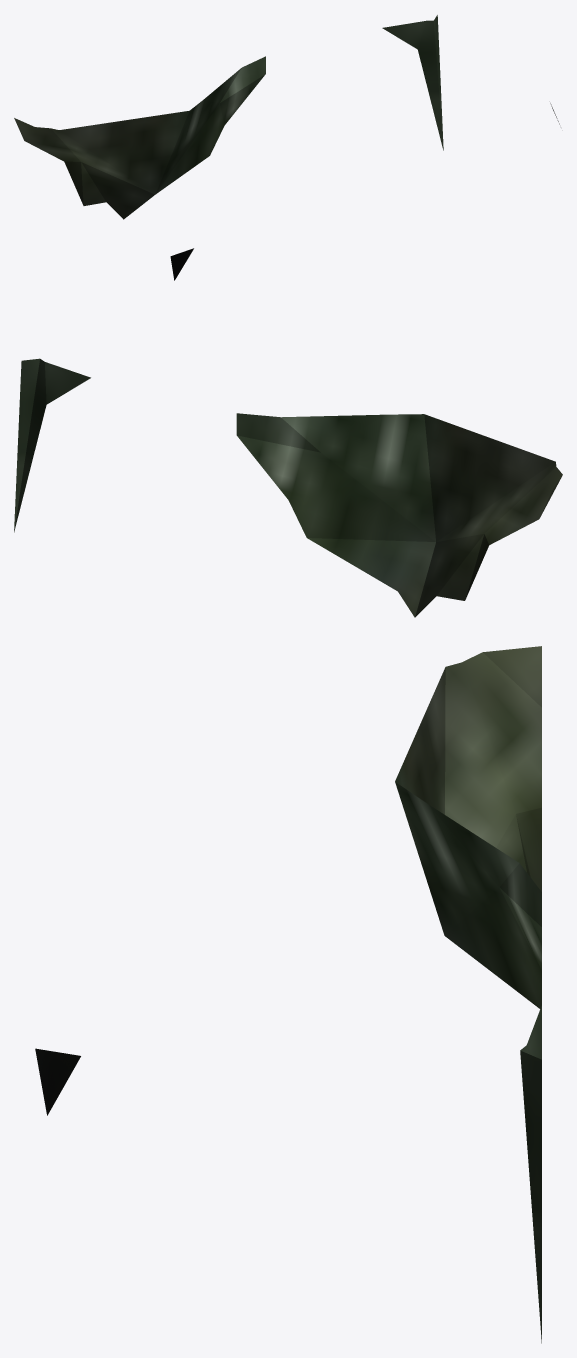
3 renders of one model, top to bottom at view 1: azimuth 30°, elevation 25°; view 2: azimuth 150°, elevation 25°; view 3: azimuth 270°, elevation 25°, orthographic. The views are drawn at different scales.
Size of the model in its own units: 0.9812 by 0.3036 by 0.5009.
1 material, 1 textured.
